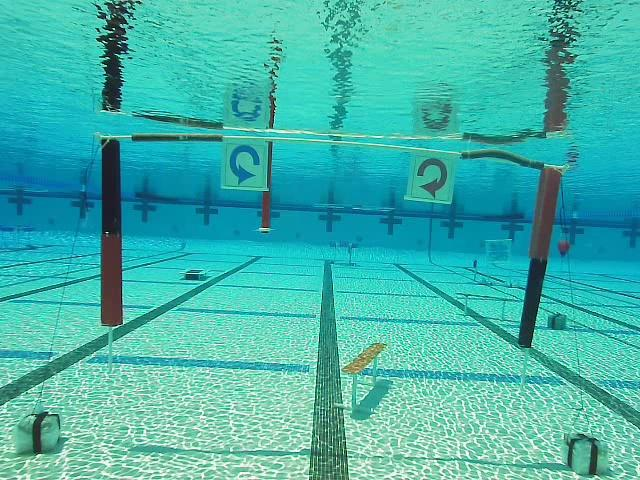gate: (99, 134, 567, 349)
gate_blue: (223, 141, 267, 190)
gate_leg_l: (99, 135, 123, 327)
gate_leg_r: (517, 165, 566, 347)
gate_red: (409, 155, 454, 202)
table: (328, 240, 358, 266)
torpedo: (487, 238, 511, 263)
